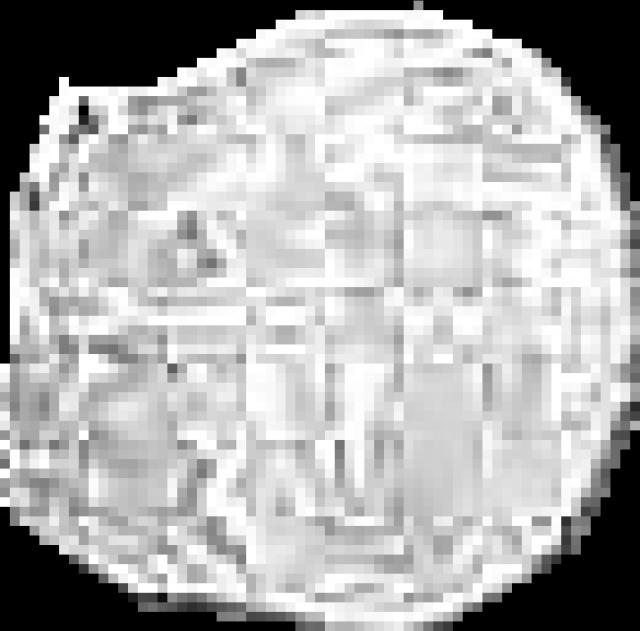tumor_moderate_chance: (0, 1, 640, 631)
